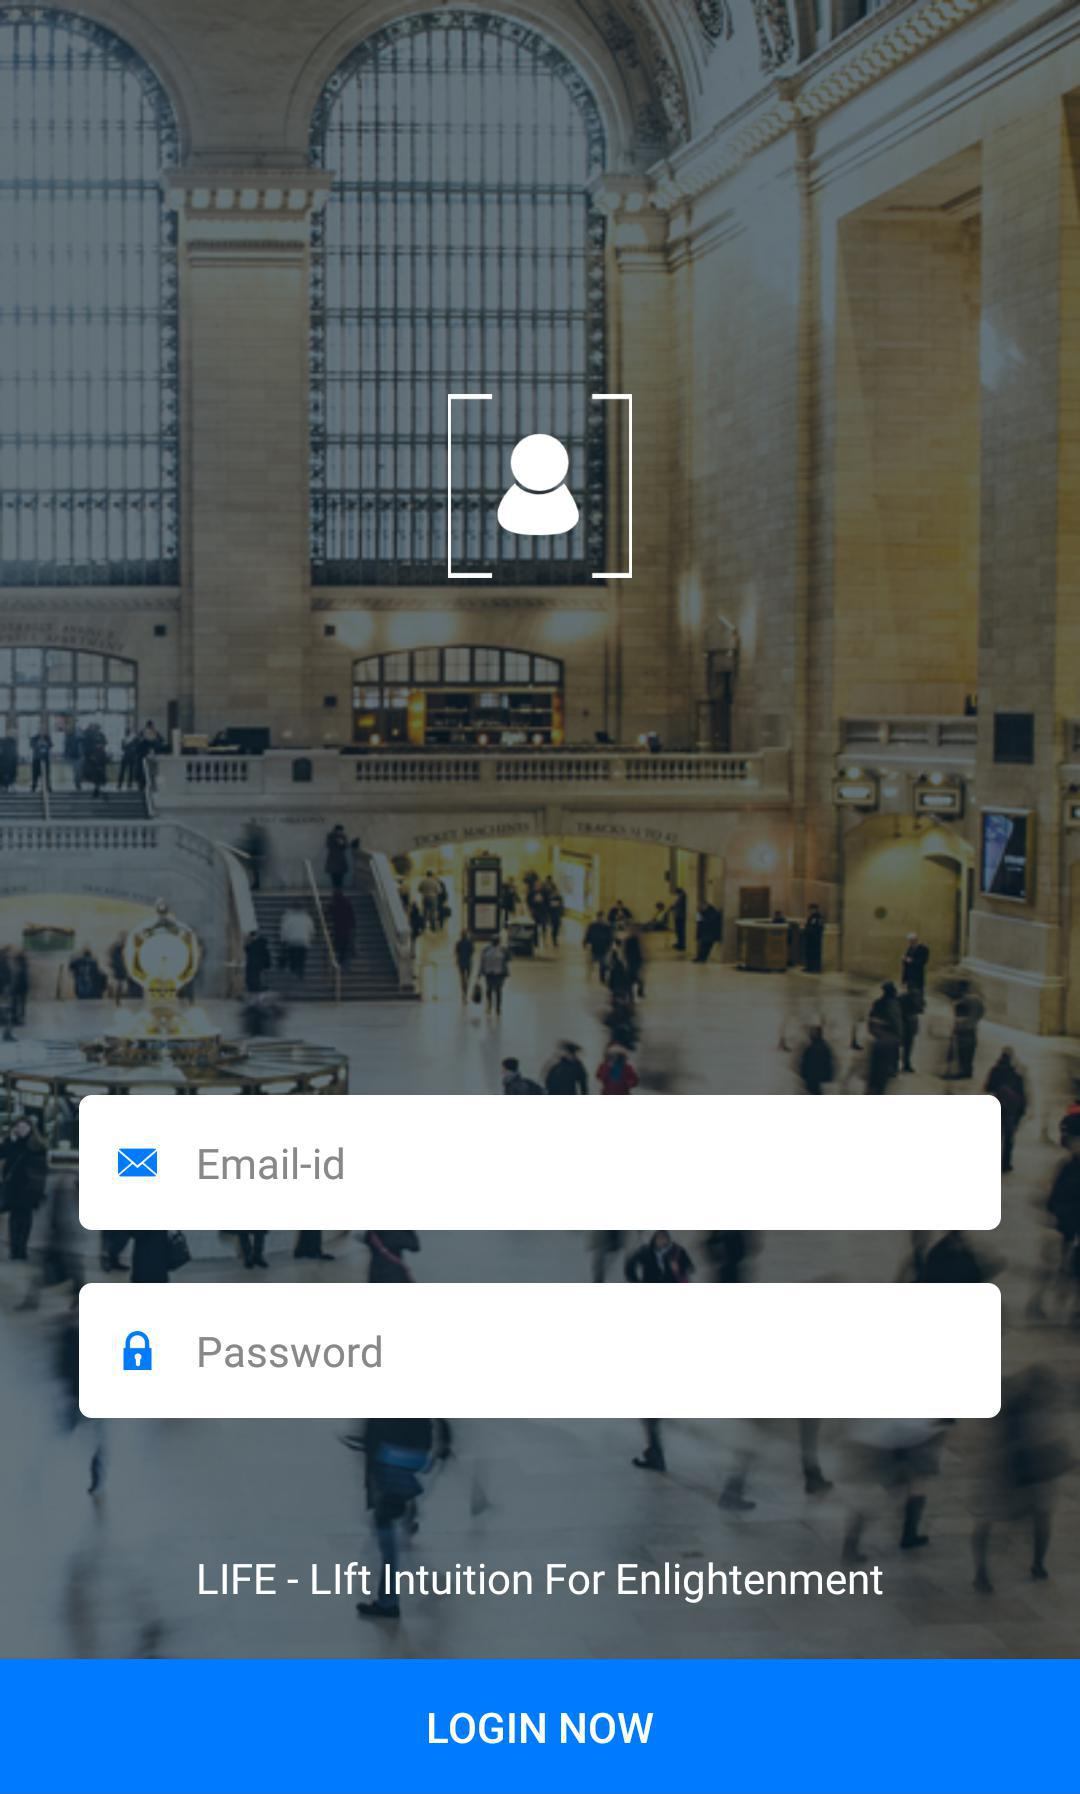BackgroundImage: (1, 3, 1080, 1658)
EditText: (79, 1281, 1001, 1419), (79, 1096, 1001, 1231)
Icon: (119, 1148, 158, 1178), (124, 1331, 152, 1370)
Image: (448, 393, 633, 579)
Text: (199, 1561, 884, 1604), (199, 1335, 382, 1369), (199, 1147, 345, 1181)
TextButton: (1, 1658, 1080, 1794)
